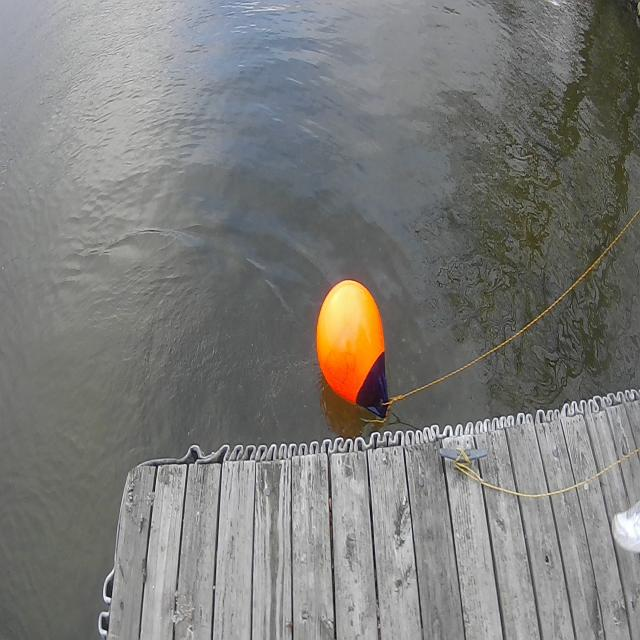Buoy: (314, 270, 394, 425)
